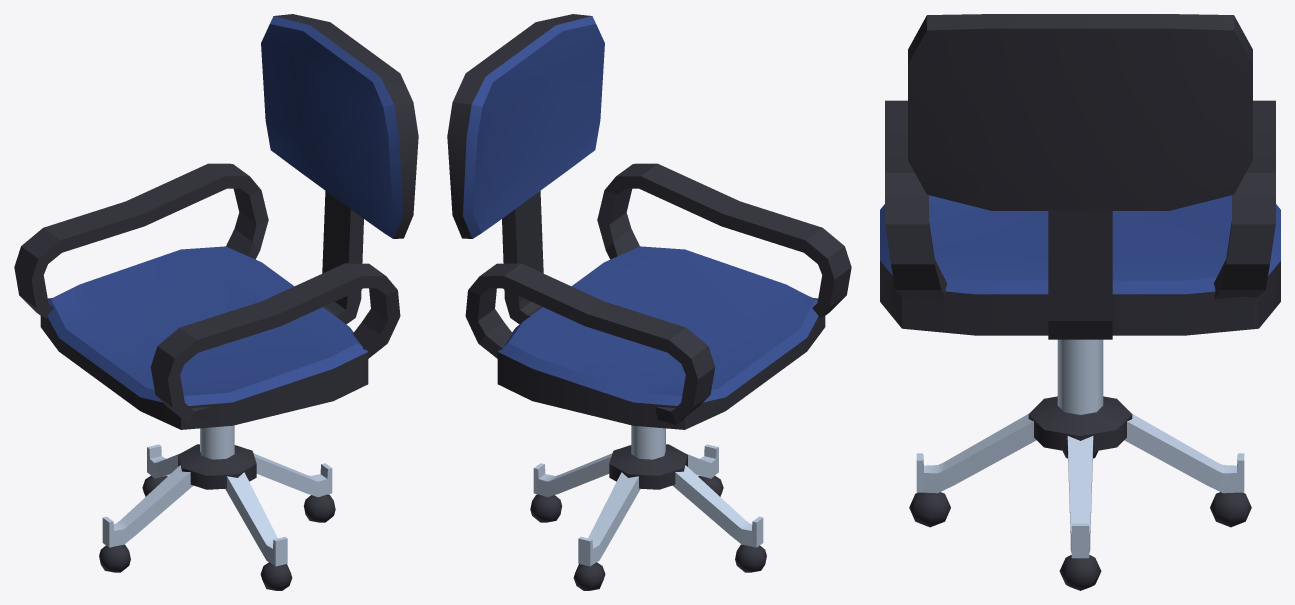
Rendered from CHAIR.FBX.
3 views of the same model, side by side, from view 1: azimuth 30°, elevation 25°; view 2: azimuth 150°, elevation 25°; view 3: azimuth 270°, elevation 25° (orthographic). The views are drawn at different scales.
Visible parts, largest first — view 1: Box004; view 2: Box004; view 3: Box004.
Part boxes in pixels (box(x1,y1,x2,y2)): Box004: box(14, 14, 418, 590); Box004: box(447, 14, 851, 590); Box004: box(880, 14, 1280, 590).
Bounding box in the file's own units: 33.84 × 54.89 × 33.66.
